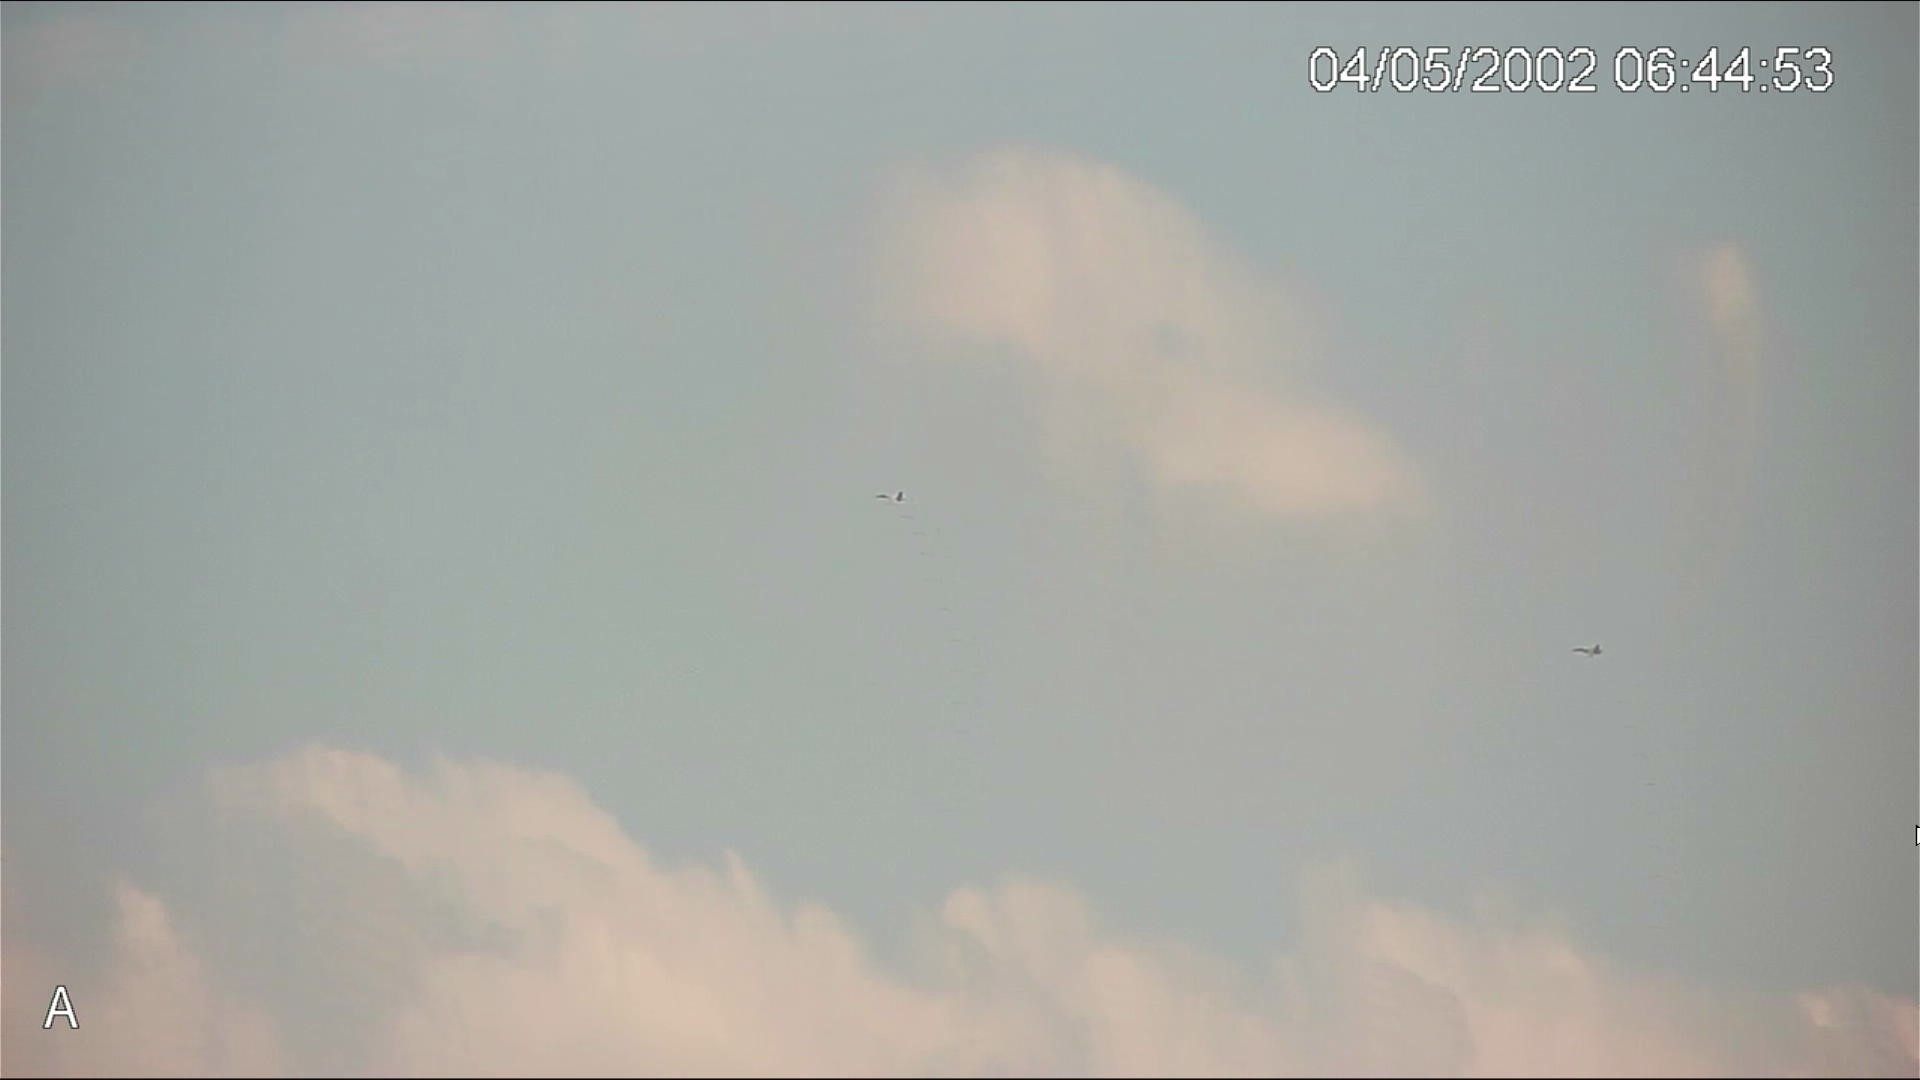SU_30: (1569, 642, 1602, 659), (874, 491, 905, 504)
